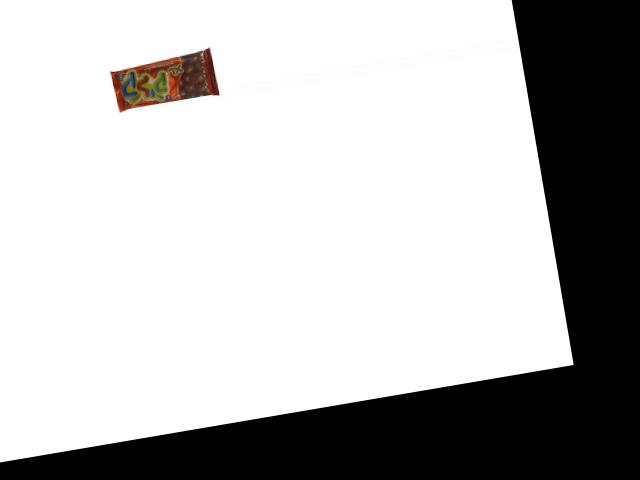chocolate: (109, 49, 219, 112)
